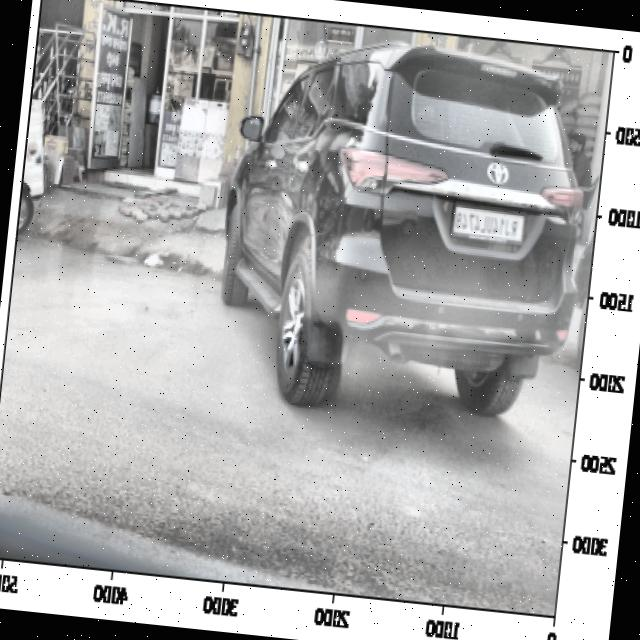license_plate: (447, 210, 524, 244)
